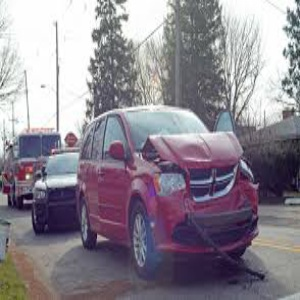bonnet: (147, 131, 248, 168)
